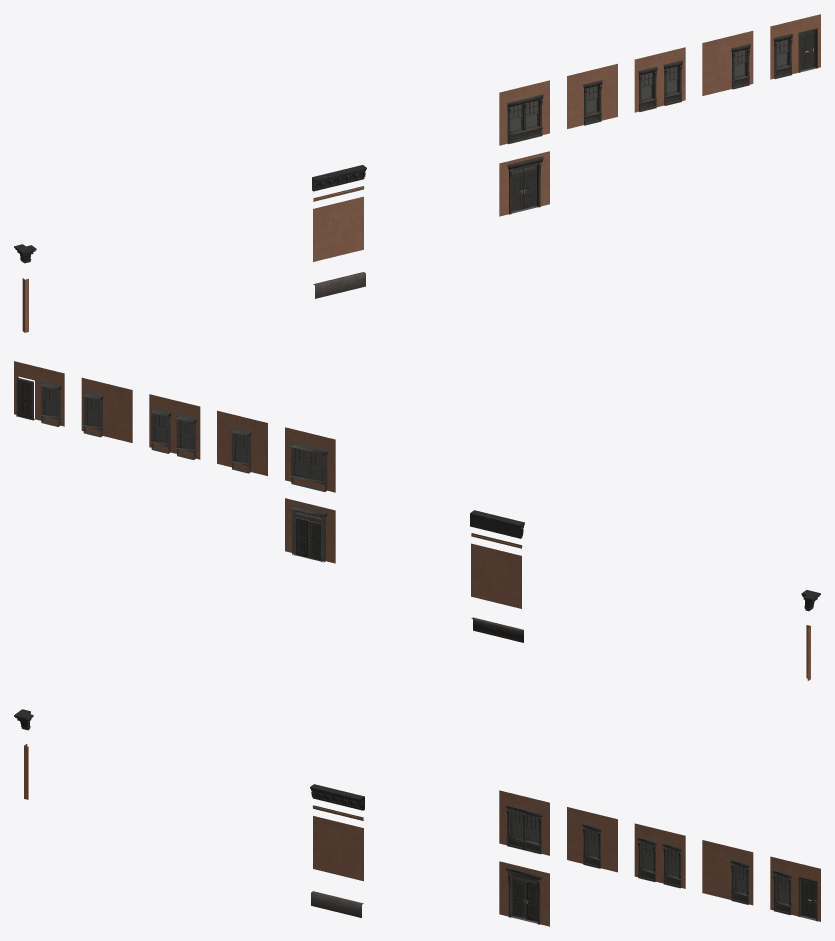
The model's file is kit.glb.
The picture shows the model from 3 angles, top to bottom: view 1: azimuth 30°, elevation 25°; view 2: azimuth 150°, elevation 25°; view 3: azimuth 330°, elevation 25°; orthographic projection.
Visible parts, largest first — view 1: wall_standard_standard_01, wall_window_offset_small_01, wall_window_centered_small_01, door_centered_large_01, door_window_small_01, window_centered_double_01, window_centered_large_01, wall_window_centered_double_01, wall_window_centered_large_01, wall_door_window_small_01, wall_door_centered_large_01, crown_standard_standard_01 (+3 smaller); view 2: wall_standard_standard_01, wall_window_offset_small_01, wall_window_centered_small_01, door_centered_large_01, window_centered_double_01, door_window_small_01, wall_window_centered_large_01, wall_window_centered_double_01, window_centered_large_01, wall_door_window_small_01, wall_door_centered_large_01, crown_standard_standard_01 (+3 smaller); view 3: wall_standard_standard_01, wall_window_offset_small_01, wall_window_centered_small_01, door_centered_large_01, door_window_small_01, window_centered_double_01, window_centered_large_01, wall_window_centered_double_01, wall_window_centered_large_01, wall_door_window_small_01, wall_door_centered_large_01, crown_standard_standard_01 (+3 smaller).
Part boxes in pixels (left/top/right/bottom): wall_standard_standard_01: left=313, top=196, right=363, bottom=261; wall_window_offset_small_01: left=702, top=31, right=753, bottom=95; wall_window_centered_small_01: left=567, top=63, right=617, bottom=128; door_centered_large_01: left=507, top=156, right=543, bottom=214; door_window_small_01: left=773, top=28, right=817, bottom=79; window_centered_double_01: left=638, top=60, right=683, bottom=111; window_centered_large_01: left=507, top=94, right=543, bottom=144; wall_window_centered_double_01: left=634, top=47, right=685, bottom=112; wall_window_centered_large_01: left=499, top=80, right=549, bottom=145; wall_door_window_small_01: left=770, top=14, right=820, bottom=79; wall_door_centered_large_01: left=499, top=151, right=549, bottom=216; crown_standard_standard_01: left=312, top=165, right=366, bottom=191; wall_standard_standard_01: left=471, top=543, right=521, bottom=608; wall_window_offset_small_01: left=81, top=377, right=132, bottom=442; wall_window_centered_small_01: left=217, top=410, right=267, bottom=475; door_centered_large_01: left=290, top=503, right=327, bottom=562; window_centered_double_01: left=150, top=407, right=196, bottom=459; door_window_small_01: left=16, top=377, right=61, bottom=426; wall_window_centered_large_01: left=285, top=427, right=335, bottom=492; wall_window_centered_double_01: left=149, top=394, right=200, bottom=459; window_centered_large_01: left=290, top=441, right=328, bottom=491; wall_door_window_small_01: left=14, top=361, right=64, bottom=426; wall_door_centered_large_01: left=285, top=498, right=335, bottom=563; crown_standard_standard_01: left=470, top=510, right=524, bottom=538; wall_standard_standard_01: left=313, top=816, right=363, bottom=881; wall_window_offset_small_01: left=702, top=840, right=753, bottom=905; wall_window_centered_small_01: left=567, top=807, right=617, bottom=872; door_centered_large_01: left=505, top=866, right=542, bottom=924; door_window_small_01: left=772, top=869, right=817, bottom=921; window_centered_double_01: left=636, top=836, right=682, bottom=888; window_centered_large_01: left=505, top=804, right=542, bottom=854; wall_window_centered_double_01: left=634, top=823, right=685, bottom=888; wall_window_centered_large_01: left=499, top=790, right=549, bottom=855; wall_door_window_small_01: left=770, top=856, right=820, bottom=921; wall_door_centered_large_01: left=499, top=861, right=549, bottom=926; crown_standard_standard_01: left=310, top=784, right=364, bottom=810.
Bounding box in the file's own units: 47.42 × 9 × 0.855.
5 materials, 5 textured.
